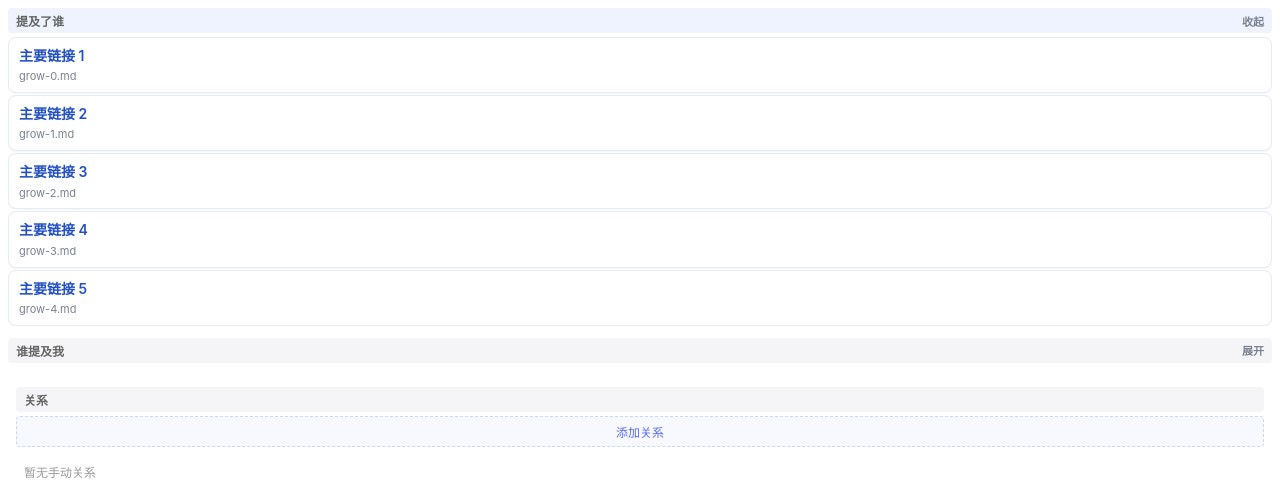
it: BacklinksPanel › pins the empty incoming section to the bottom while outgoing takes the main space
This screenshot has width=1280, height=495.
expect the text "暂无链接" is not shown: met
Click the button "谁提及我 展开": (40, 352) [8,338,1272,363]
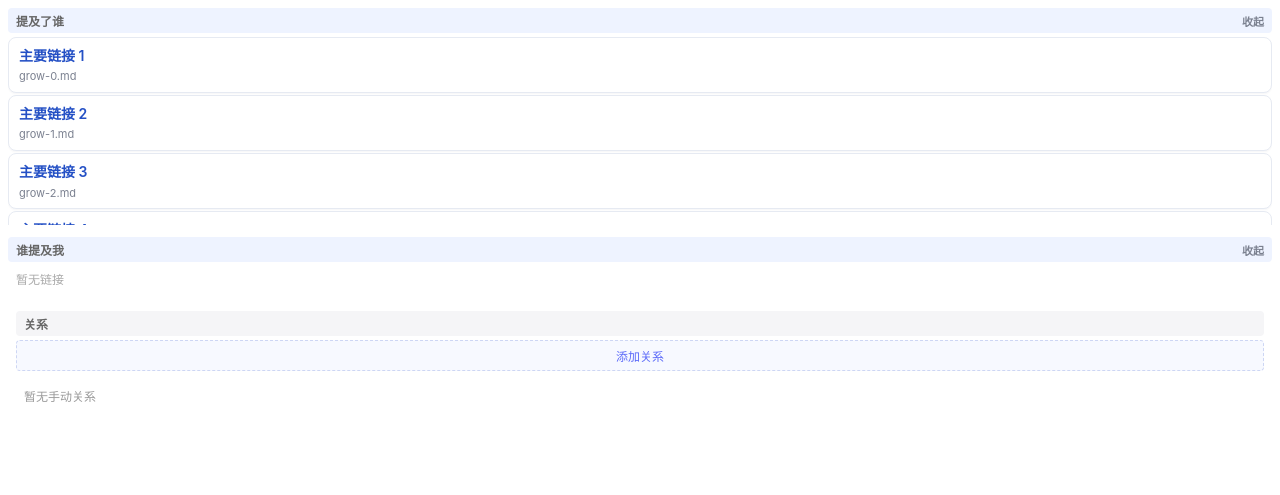
expect the text "暂无链接" is shown: met, box [16,272,64,287]
